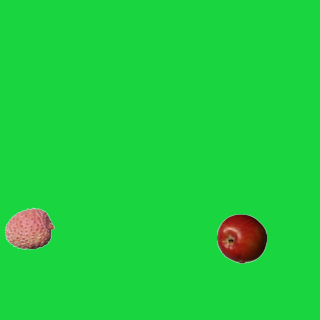Apple Braeburn: (216, 213, 266, 263)
Lychee: (4, 203, 54, 253)
